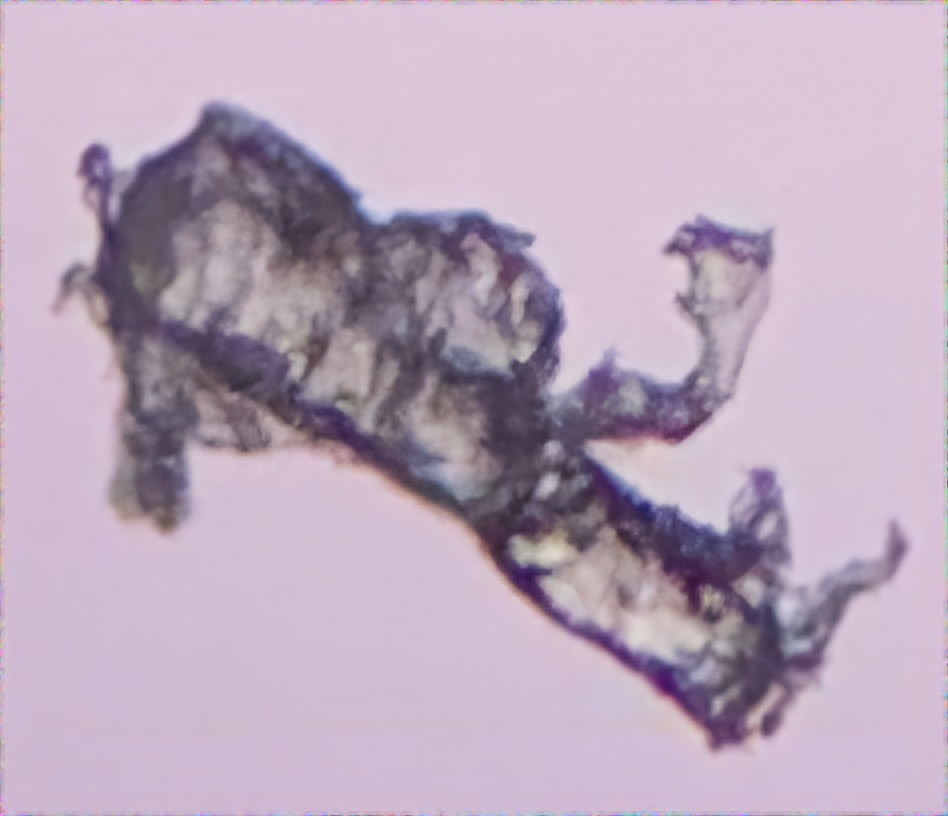microplastic: (41, 91, 926, 766)
